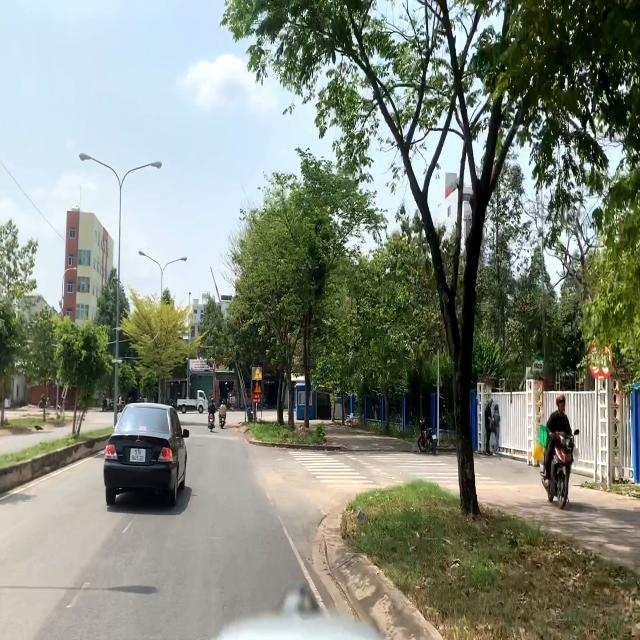bien_nguy_hiem: (252, 380, 262, 394), (252, 367, 262, 380)
